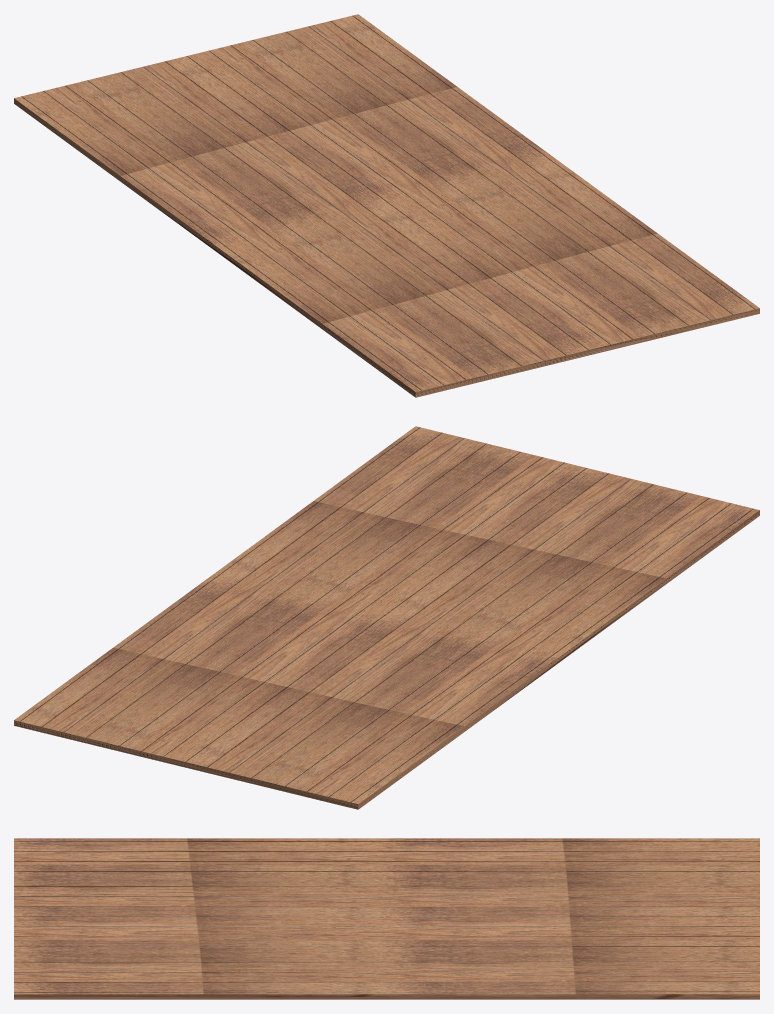
Rendered from techo.obj.
The picture shows the model from 3 angles, top to bottom: view 1: azimuth 30°, elevation 25°; view 2: azimuth 150°, elevation 25°; view 3: azimuth 270°, elevation 25°; orthographic projection. The views are drawn at different scales.
Parts seen in each view (by area): view 1: pasted__pasted__pasted__LTecho polySurface38; view 2: pasted__pasted__pasted__LTecho polySurface38; view 3: pasted__pasted__pasted__LTecho polySurface38.
Part boxes in pixels (box(x1,y1,x2,y2)): pasted__pasted__pasted__LTecho polySurface38: box(14, 14, 759, 397); pasted__pasted__pasted__LTecho polySurface38: box(14, 426, 759, 809); pasted__pasted__pasted__LTecho polySurface38: box(14, 838, 759, 999).
Size of the model in its own units: 22.49 by 1.06 by 45.46.
6 materials, 6 textured.
